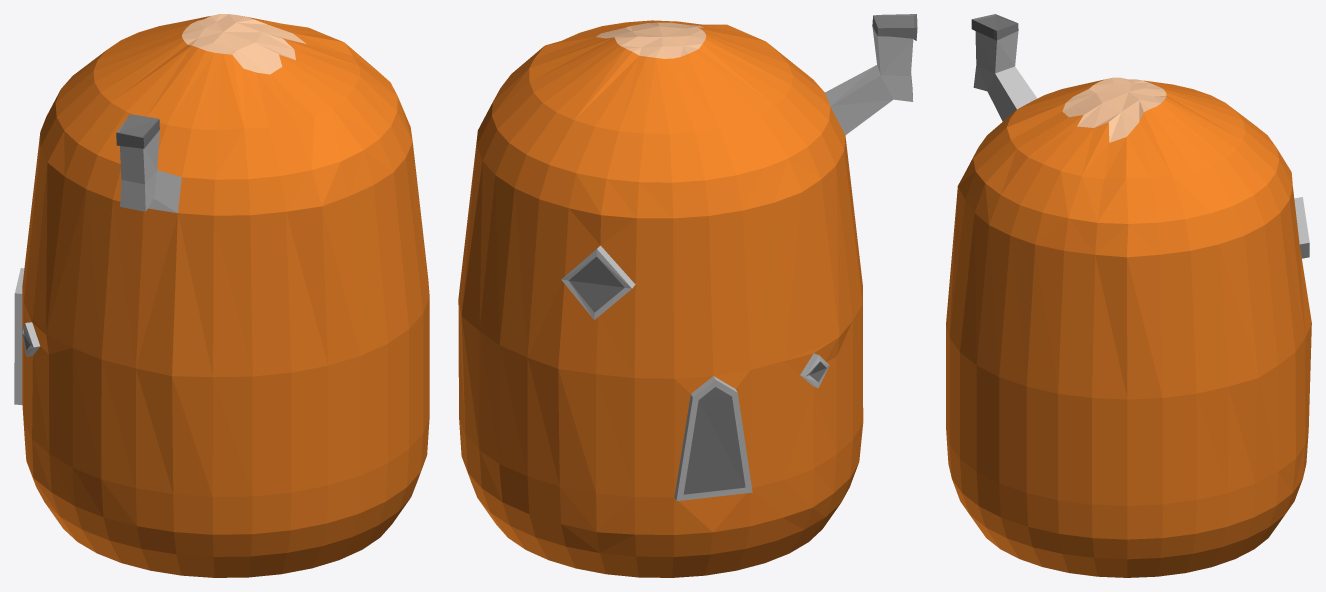
The model's file is pineapple.obj.
3 views of the same model, side by side, from view 1: azimuth 30°, elevation 25°; view 2: azimuth 150°, elevation 25°; view 3: azimuth 270°, elevation 25° (orthographic). The views are drawn at different scales.
Parts seen in each view (by area): view 1: Circle; view 2: Circle; view 3: Circle.
Part boxes in pixels (x1,y1,x2,y2): Circle: [14, 14, 429, 577]; Circle: [458, 14, 917, 577]; Circle: [946, 14, 1311, 577].
Bounding box in the file's own units: 5.07 × 6.37 × 5.01.
Materials: 1 (1 with a texture image).
